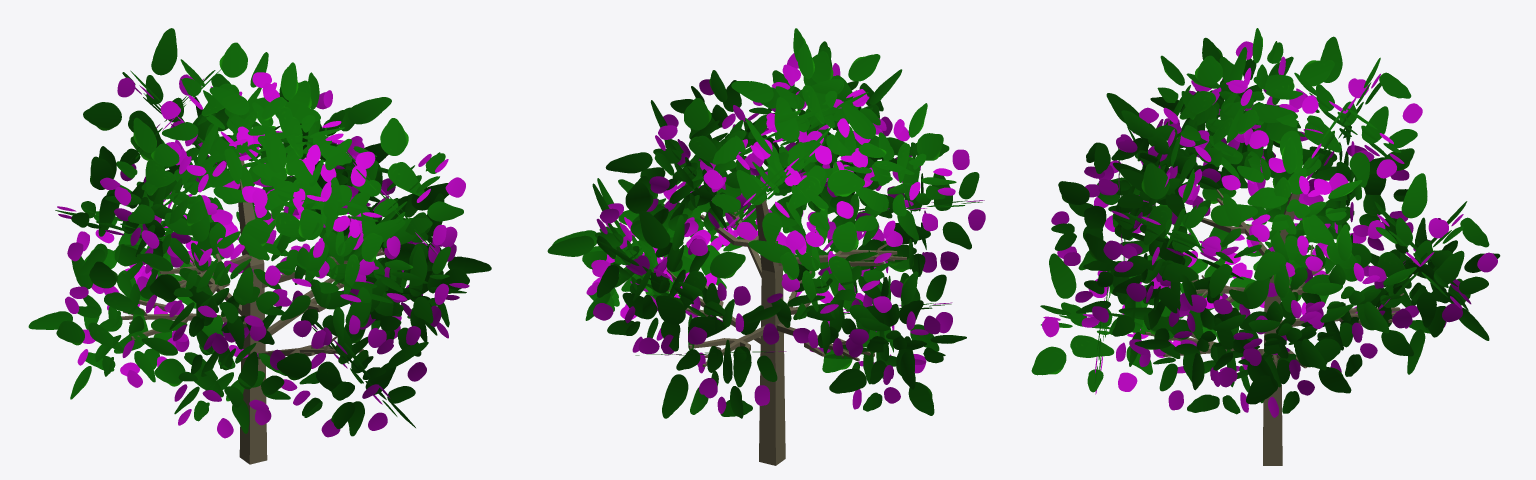
The model's file is CaySim.fbx.
The picture shows the model from 3 angles, left to right: view 1: azimuth 30°, elevation 25°; view 2: azimuth 150°, elevation 25°; view 3: azimuth 270°, elevation 25°; orthographic projection. The views are drawn at different scales.
Parts seen in each view (by area): view 1: Bush, Branch; view 2: Bush, Branch; view 3: Bush, Branch.
Boxes of the visible parts, <box> form: Bush: <box>28,28,491,438</box>; Branch: <box>121,160,384,464</box>; Bush: <box>547,28,985,418</box>; Branch: <box>666,188,906,465</box>; Bush: <box>1031,28,1500,417</box>; Branch: <box>1145,189,1403,465</box>.
Size of the model in its own units: 444 by 444 by 462.
Materials: 2 (1 with a texture image).
